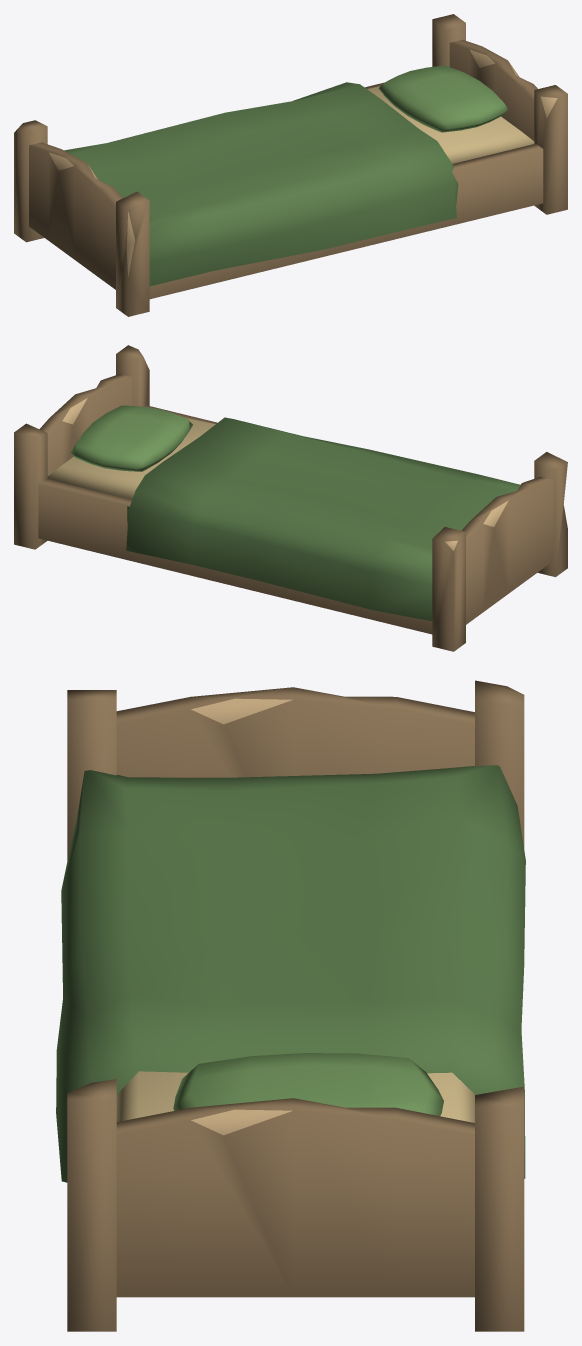
The model's file is rpgpp_ag_bed_03a.fbx.
The picture shows the model from 3 angles, top to bottom: view 1: azimuth 30°, elevation 25°; view 2: azimuth 150°, elevation 25°; view 3: azimuth 270°, elevation 25°; orthographic projection. The views are drawn at different scales.
Visible parts, largest first — view 1: rpgpp_ag_bed_03a; view 2: rpgpp_ag_bed_03a; view 3: rpgpp_ag_bed_03a.
Boxes of the visible parts, x1=… form: rpgpp_ag_bed_03a: x1=14, y1=14, x2=567, y2=316; rpgpp_ag_bed_03a: x1=14, y1=345, x2=567, y2=651; rpgpp_ag_bed_03a: x1=56, y1=680, x2=525, y2=1331.
Bounding box in the file's own units: 2.64 × 0.6653 × 1.22.
